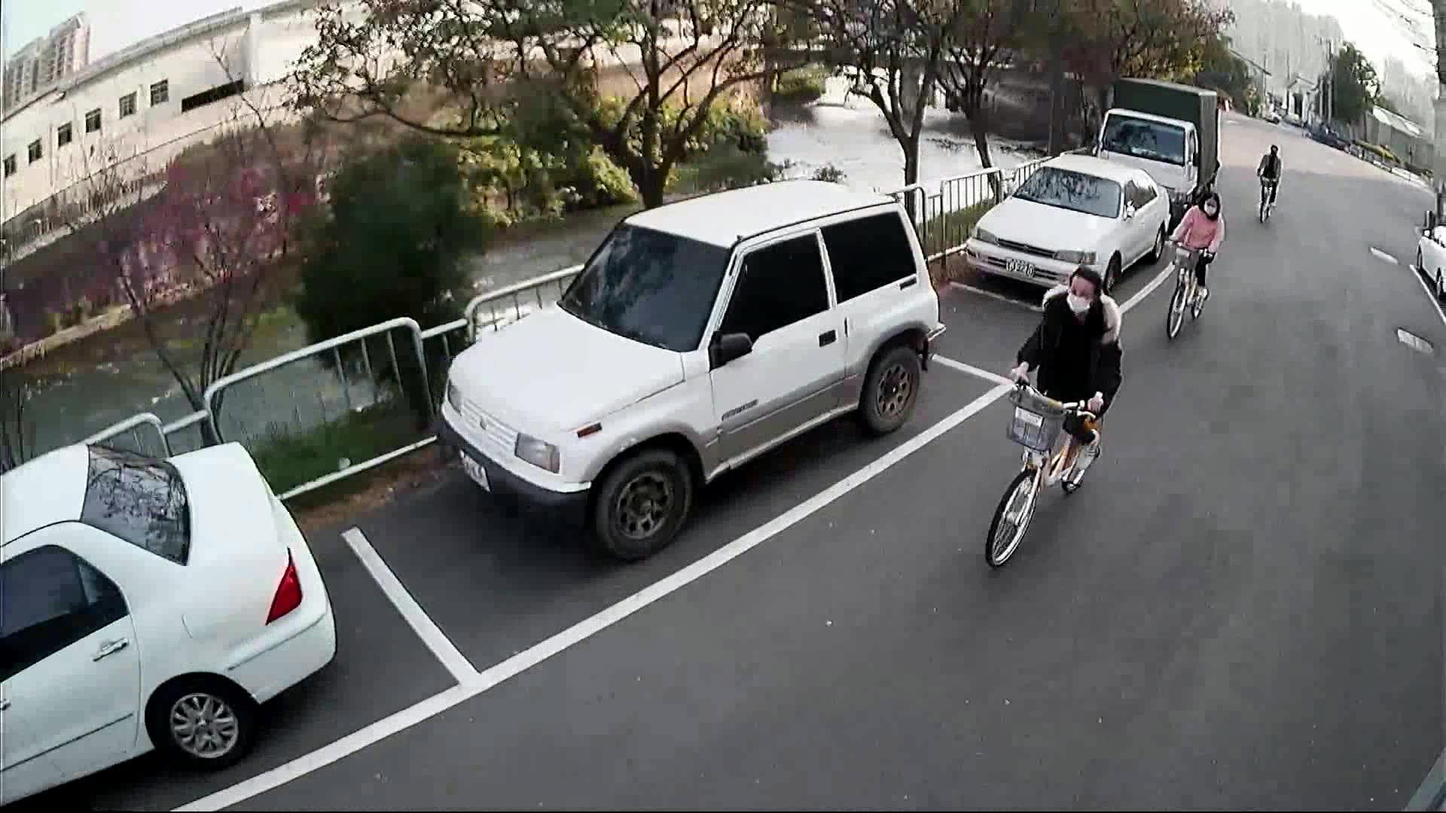person: (1002, 261, 1127, 492), (1166, 187, 1224, 315), (1257, 141, 1283, 216)
